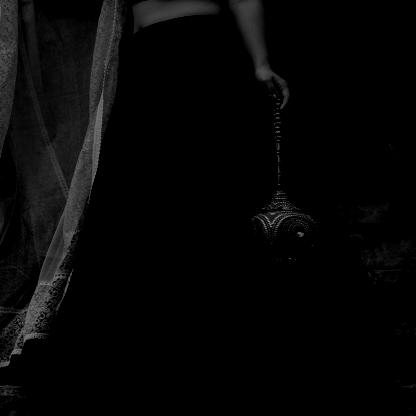dress: (11, 10, 411, 402)
